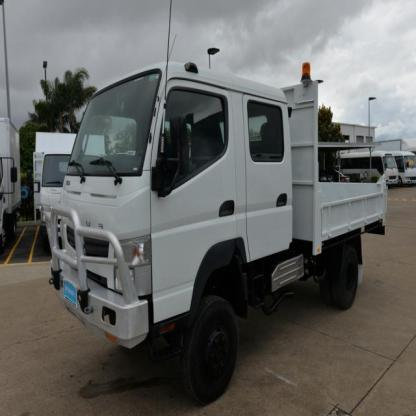truck: (49, 60, 391, 365)
